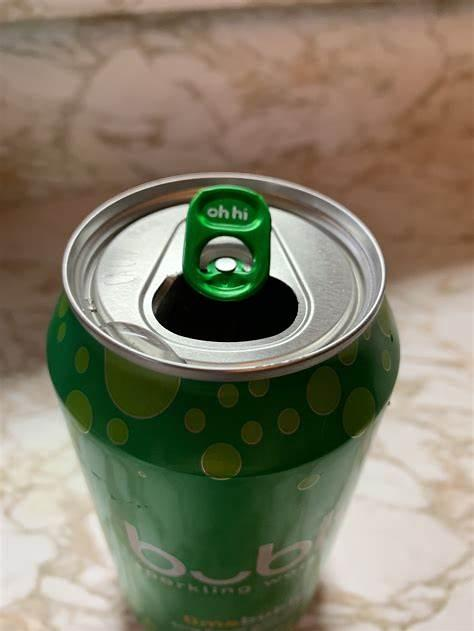metal: (46, 173, 400, 631)
